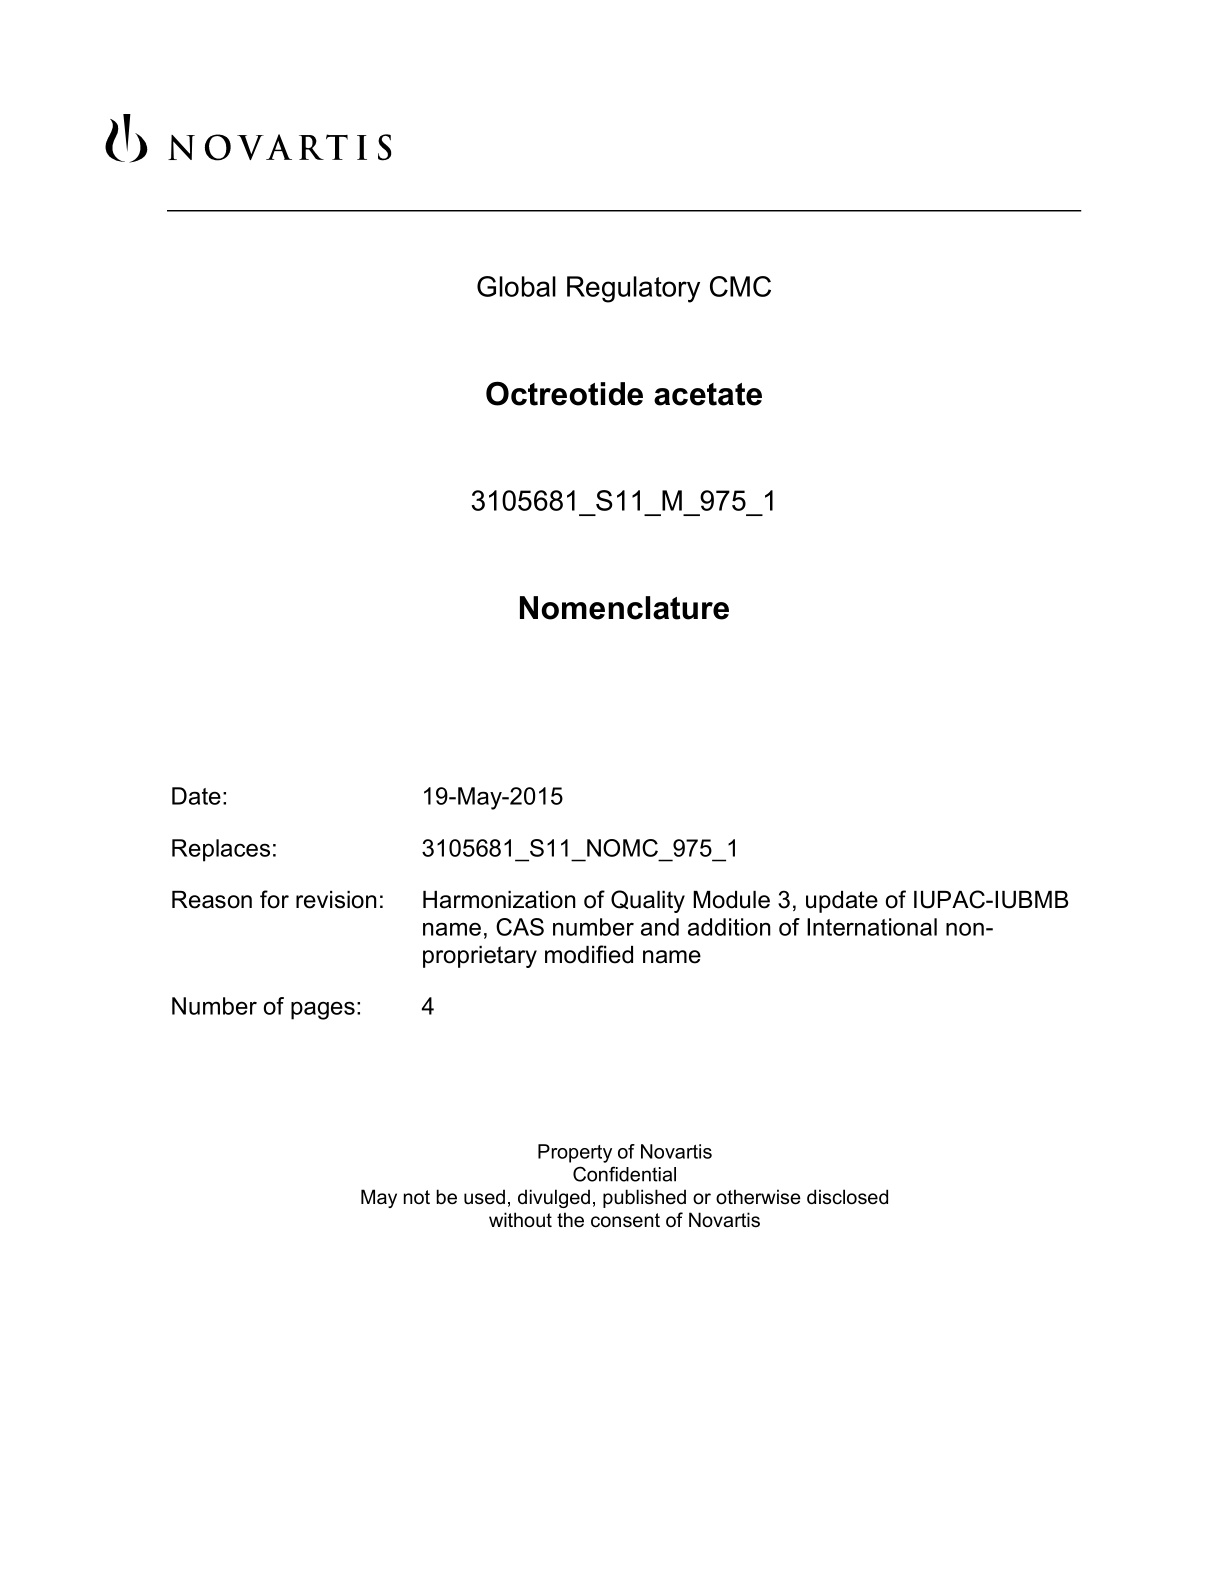nolines: (168, 780, 1070, 1020)
